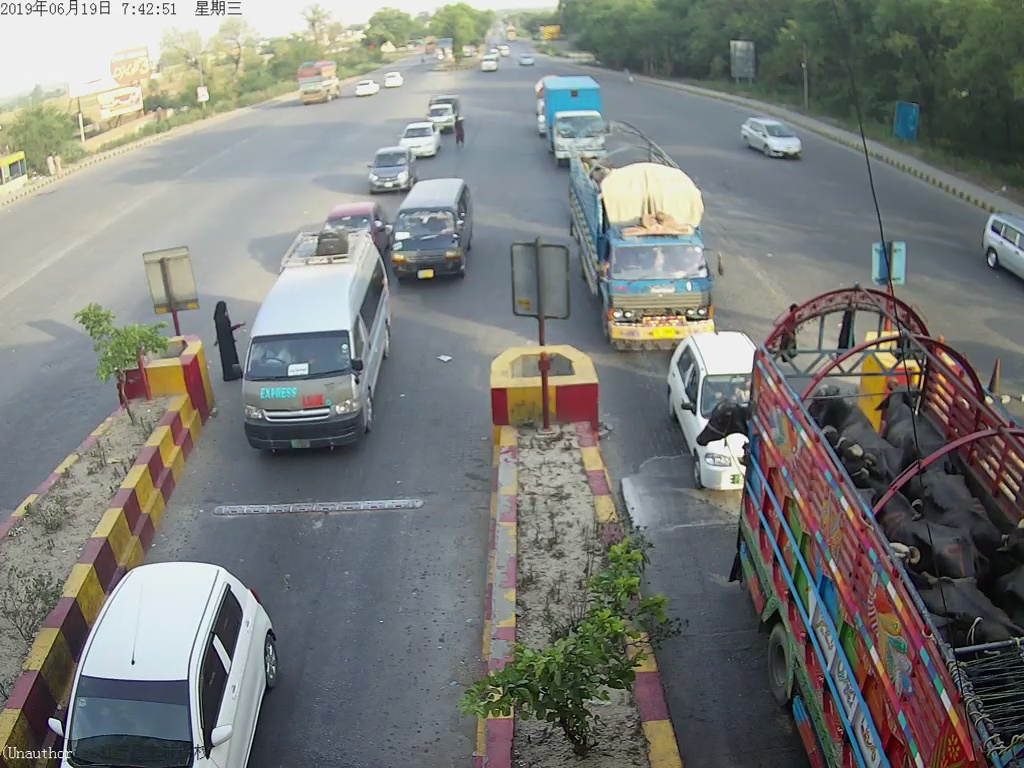Cat-1: (670, 344, 748, 495)
Cat-2: (246, 237, 390, 456), (392, 183, 475, 293)
Cat-4: (572, 142, 717, 339)
